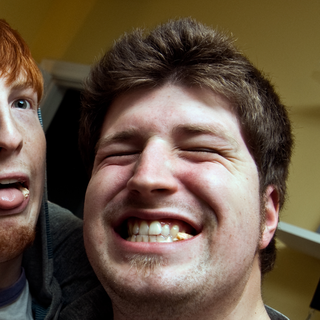eye: (9, 92, 39, 115)
